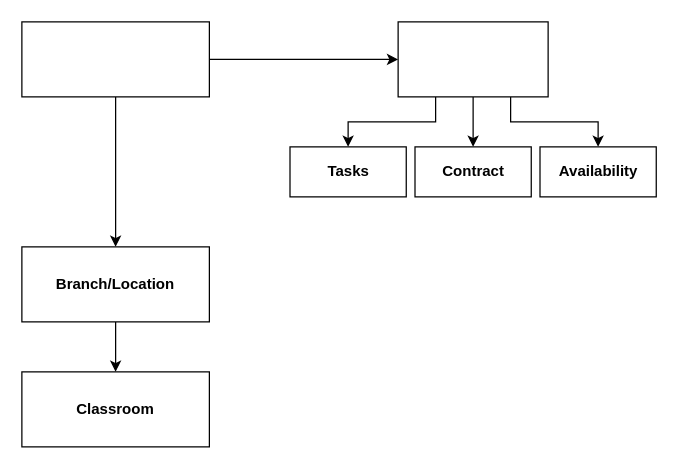
This 679x469 diagram has some shape labels left out. Here are the shapes that lost their labels. From the top down, the centre of each, then its label:
pixel 115 59: Organisation/School
pixel 472 59: User
